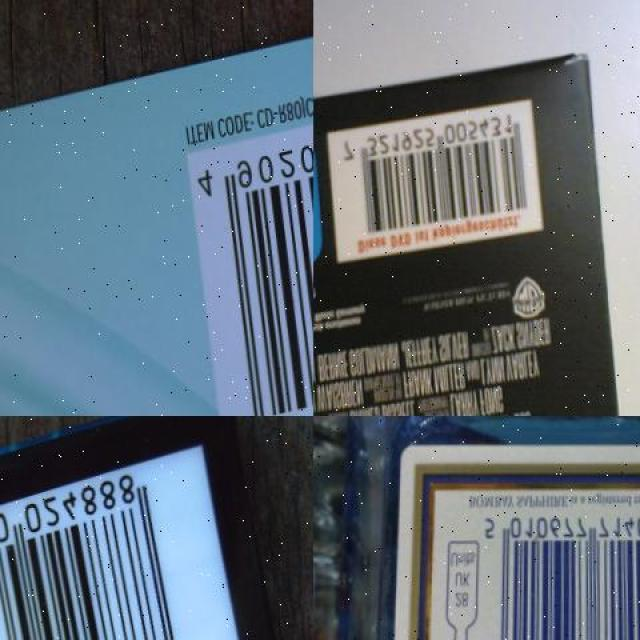Barcode: (0, 436, 259, 640), (179, 59, 313, 416), (326, 93, 546, 264), (476, 501, 640, 640)
